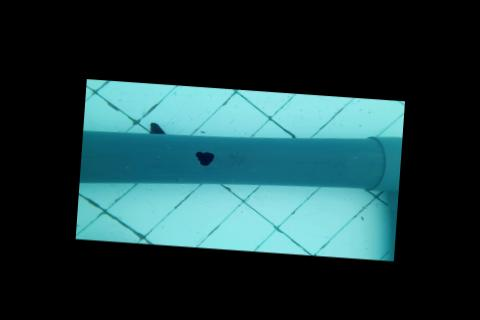kebocoran: (192, 150, 215, 168)
